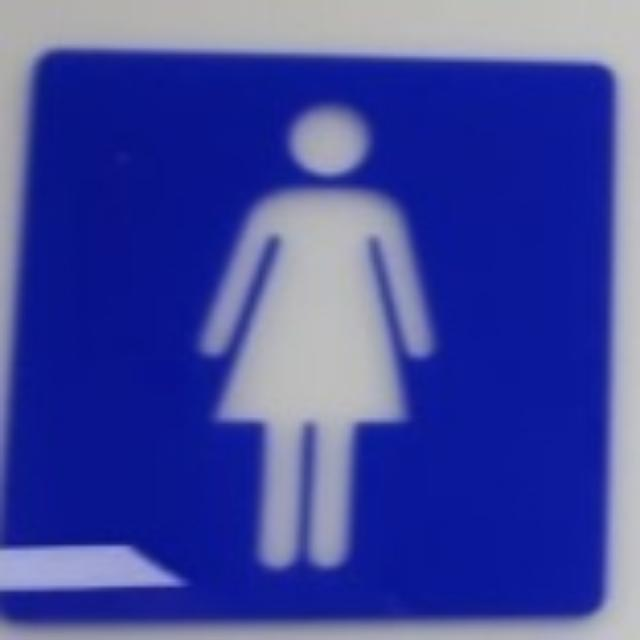wc nu: (0, 53, 611, 615)
